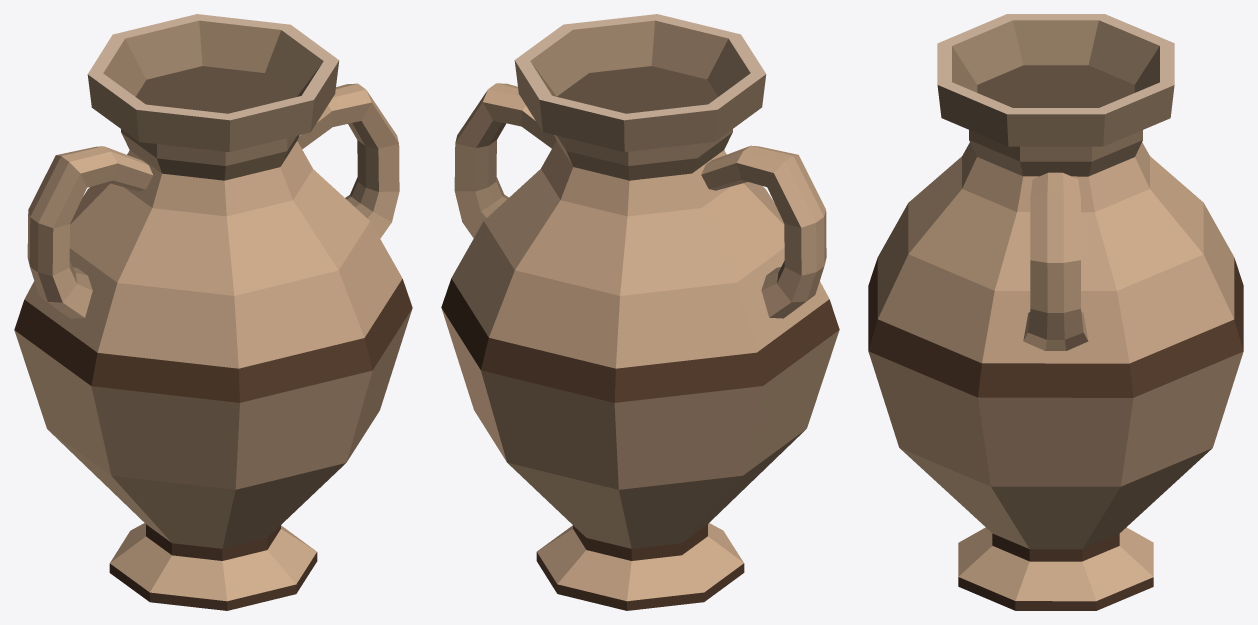
The model's file is Vase_02.glb.
3 views of the same model, side by side, from view 1: azimuth 30°, elevation 25°; view 2: azimuth 150°, elevation 25°; view 3: azimuth 270°, elevation 25° (orthographic).
Parts seen in each view (by area): view 1: Vase_02; view 2: Vase_02; view 3: Vase_02.
Boxes of the visible parts, <box> form: Vase_02: <box>14,14,412,610</box>; Vase_02: <box>441,14,839,610</box>; Vase_02: <box>868,14,1243,610</box>.
Size of what is drawn, in the model's own units: 0.7454 by 0.99 by 0.6663.
Materials: 1 (1 with a texture image).
